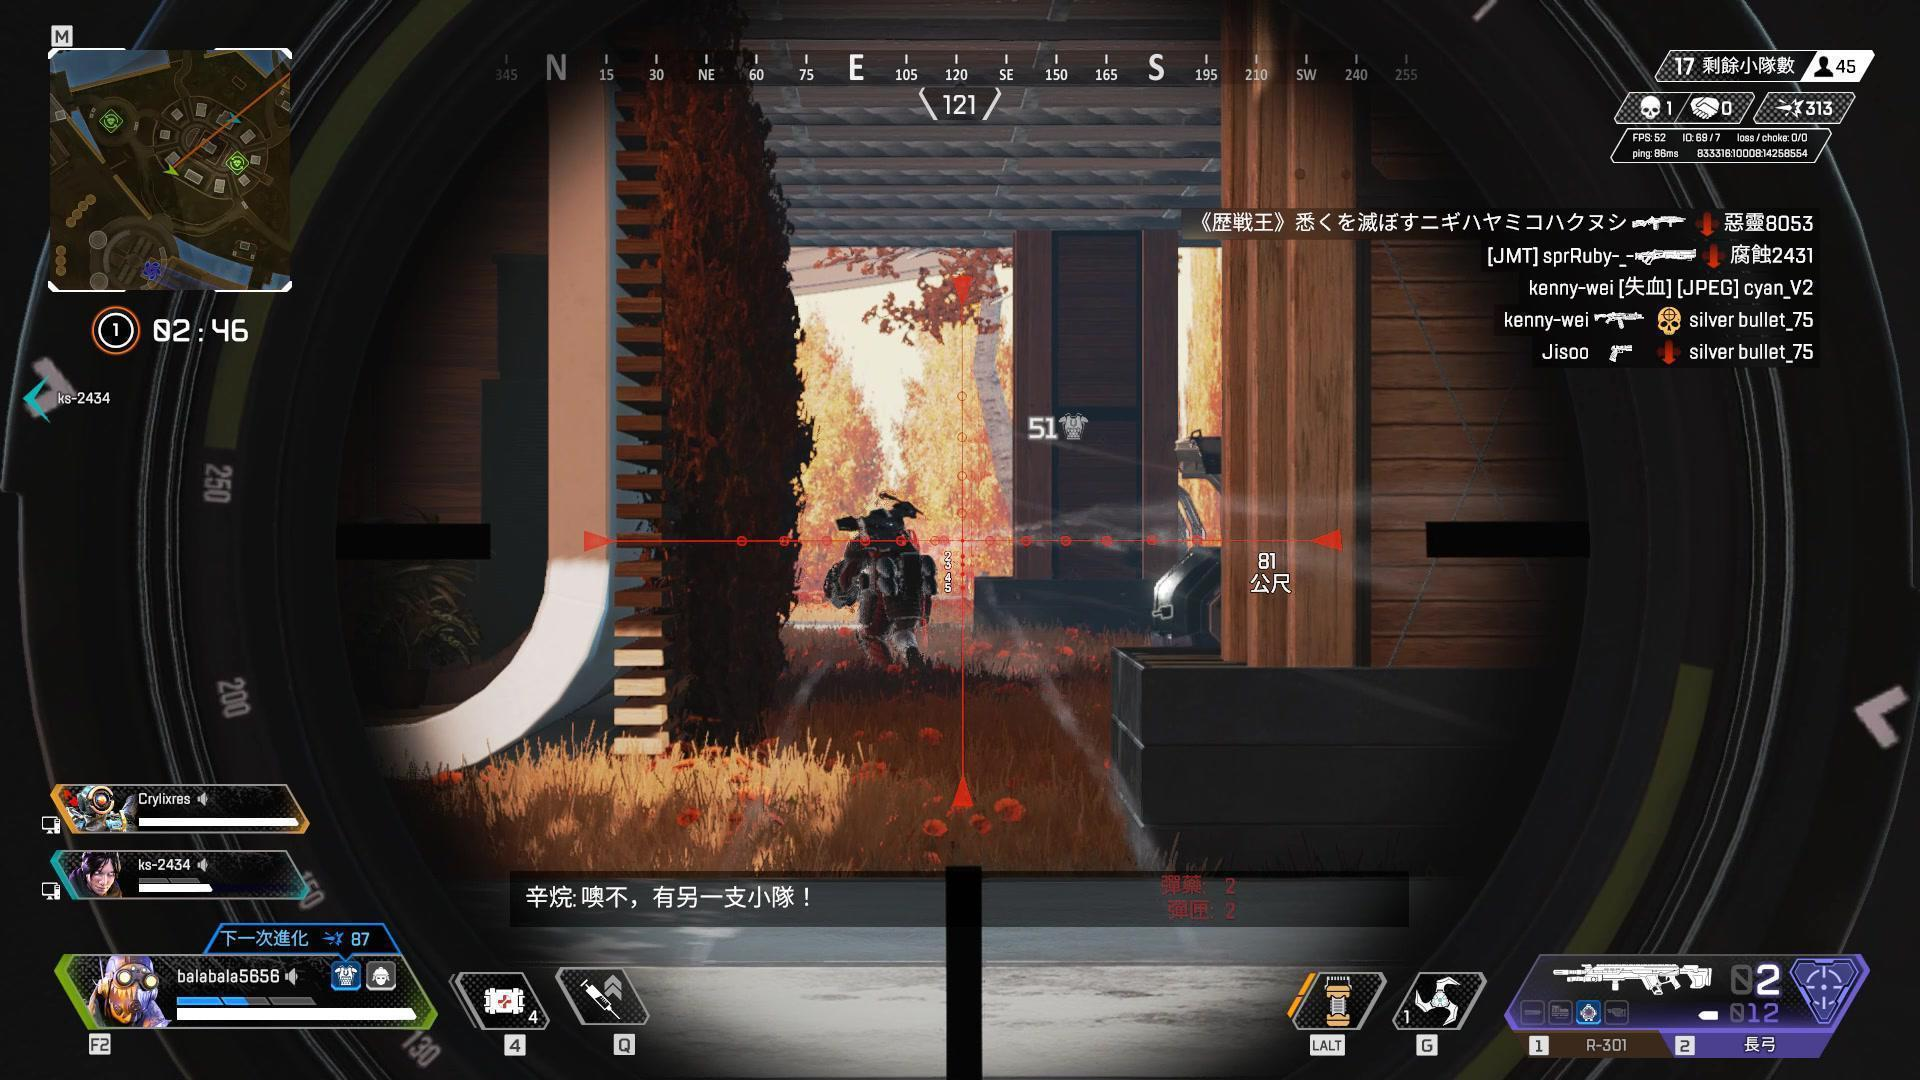avatar: (820, 500, 938, 675)
